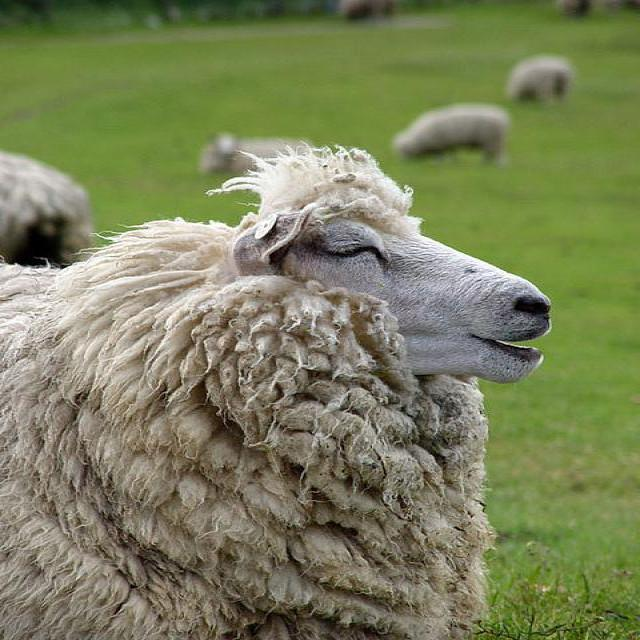Sheep: (0, 136, 560, 638), (0, 151, 96, 265), (397, 106, 511, 168), (199, 134, 305, 176), (502, 58, 578, 105)
